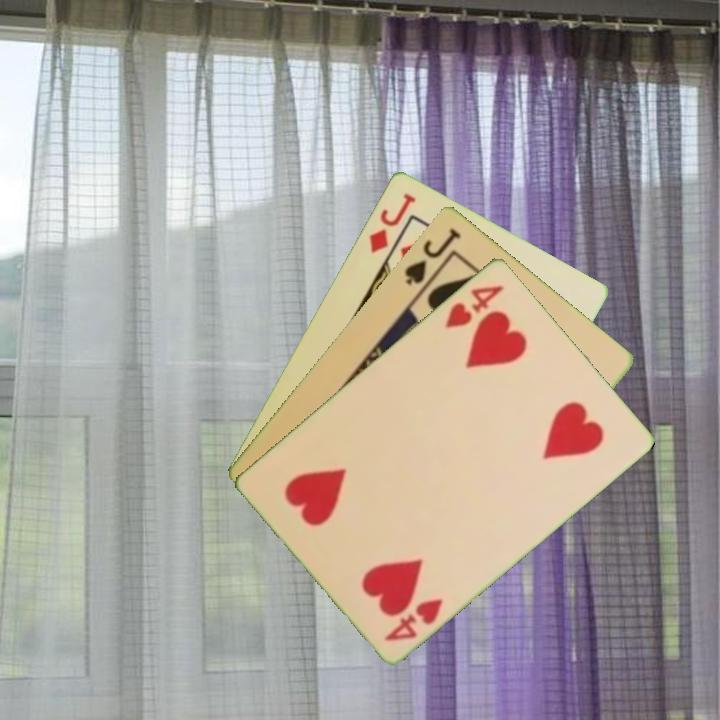4h: (441, 280, 507, 331), (380, 594, 446, 644)
Jd: (365, 188, 419, 255)
Js: (401, 224, 464, 288)
